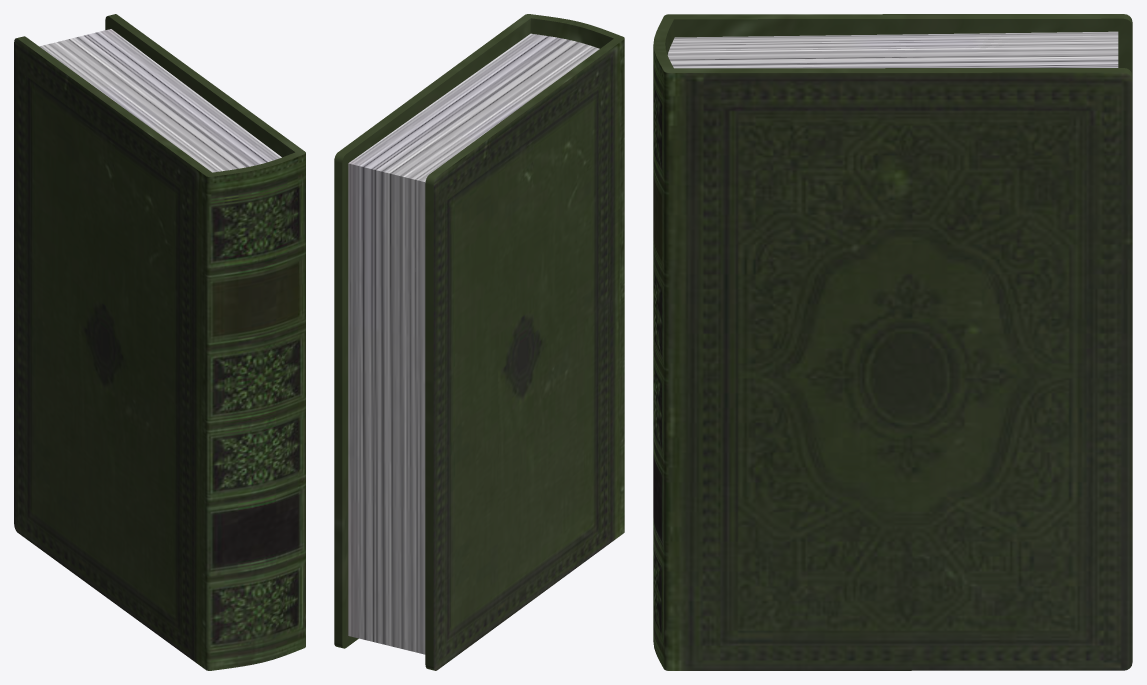
File: Book.obj
The picture shows the model from 3 angles, left to right: view 1: azimuth 30°, elevation 25°; view 2: azimuth 150°, elevation 25°; view 3: azimuth 270°, elevation 25°; orthographic projection. The views are drawn at different scales.
Visible parts, largest first — view 1: outhercover, pages, innercover; view 2: outhercover, pages, innercover; view 3: outhercover, pages, innercover.
Part boxes in pixels (<box>): outhercover: <box>14,38,305,670</box>; pages: <box>39,29,281,172</box>; innercover: <box>17,14,305,176</box>; outhercover: <box>433,39,624,670</box>; pages: <box>348,33,599,654</box>; innercover: <box>334,14,624,670</box>; outhercover: <box>653,44,1132,670</box>; pages: <box>667,31,1118,68</box>; innercover: <box>653,14,1132,80</box>.
Bounding box in the file's own units: 0.0423 × 0.1997 × 0.145.
